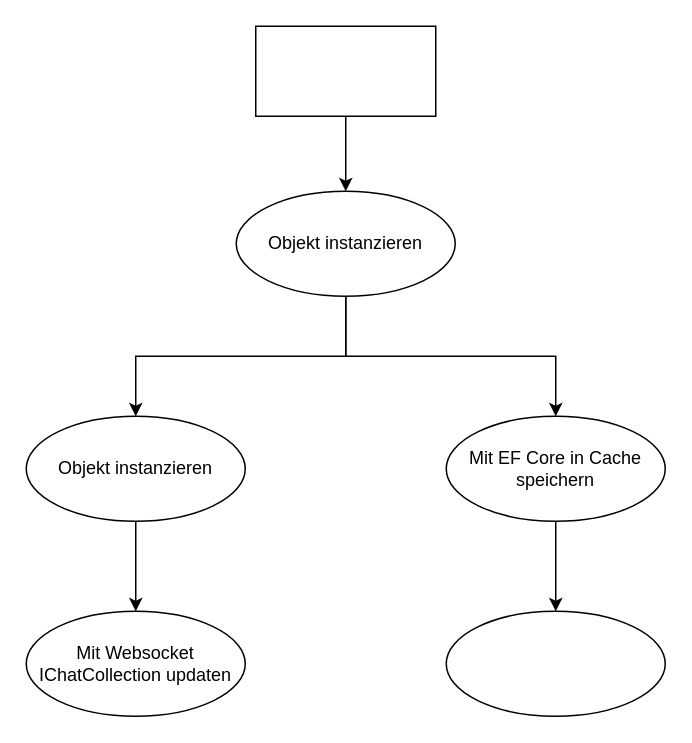
This 692x743 diagram has some shape labels left out. The centre of each missing label's shape, as x and y in pixels:
"Cache in die DB Schreiebn" belongs at (555,663).
"Gruppen Chat erstellen" belongs at (345,70).
